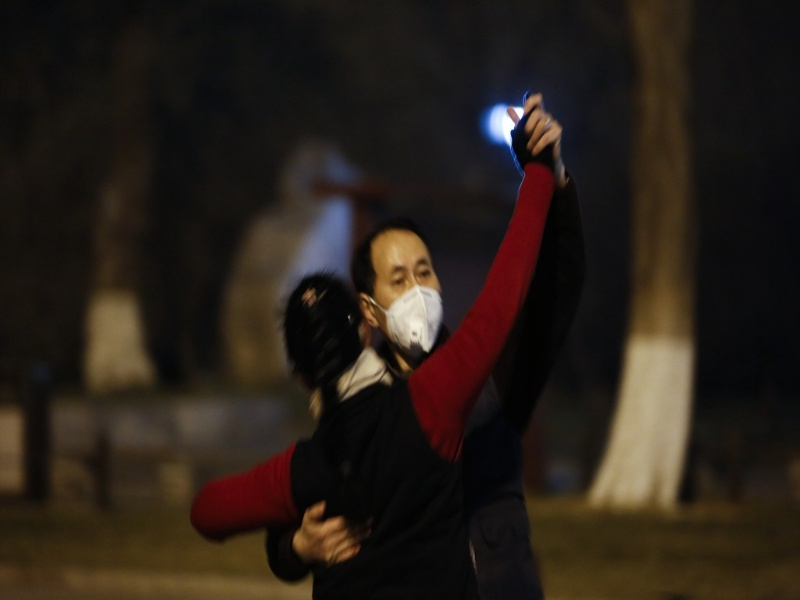mask: (363, 221, 449, 353)
